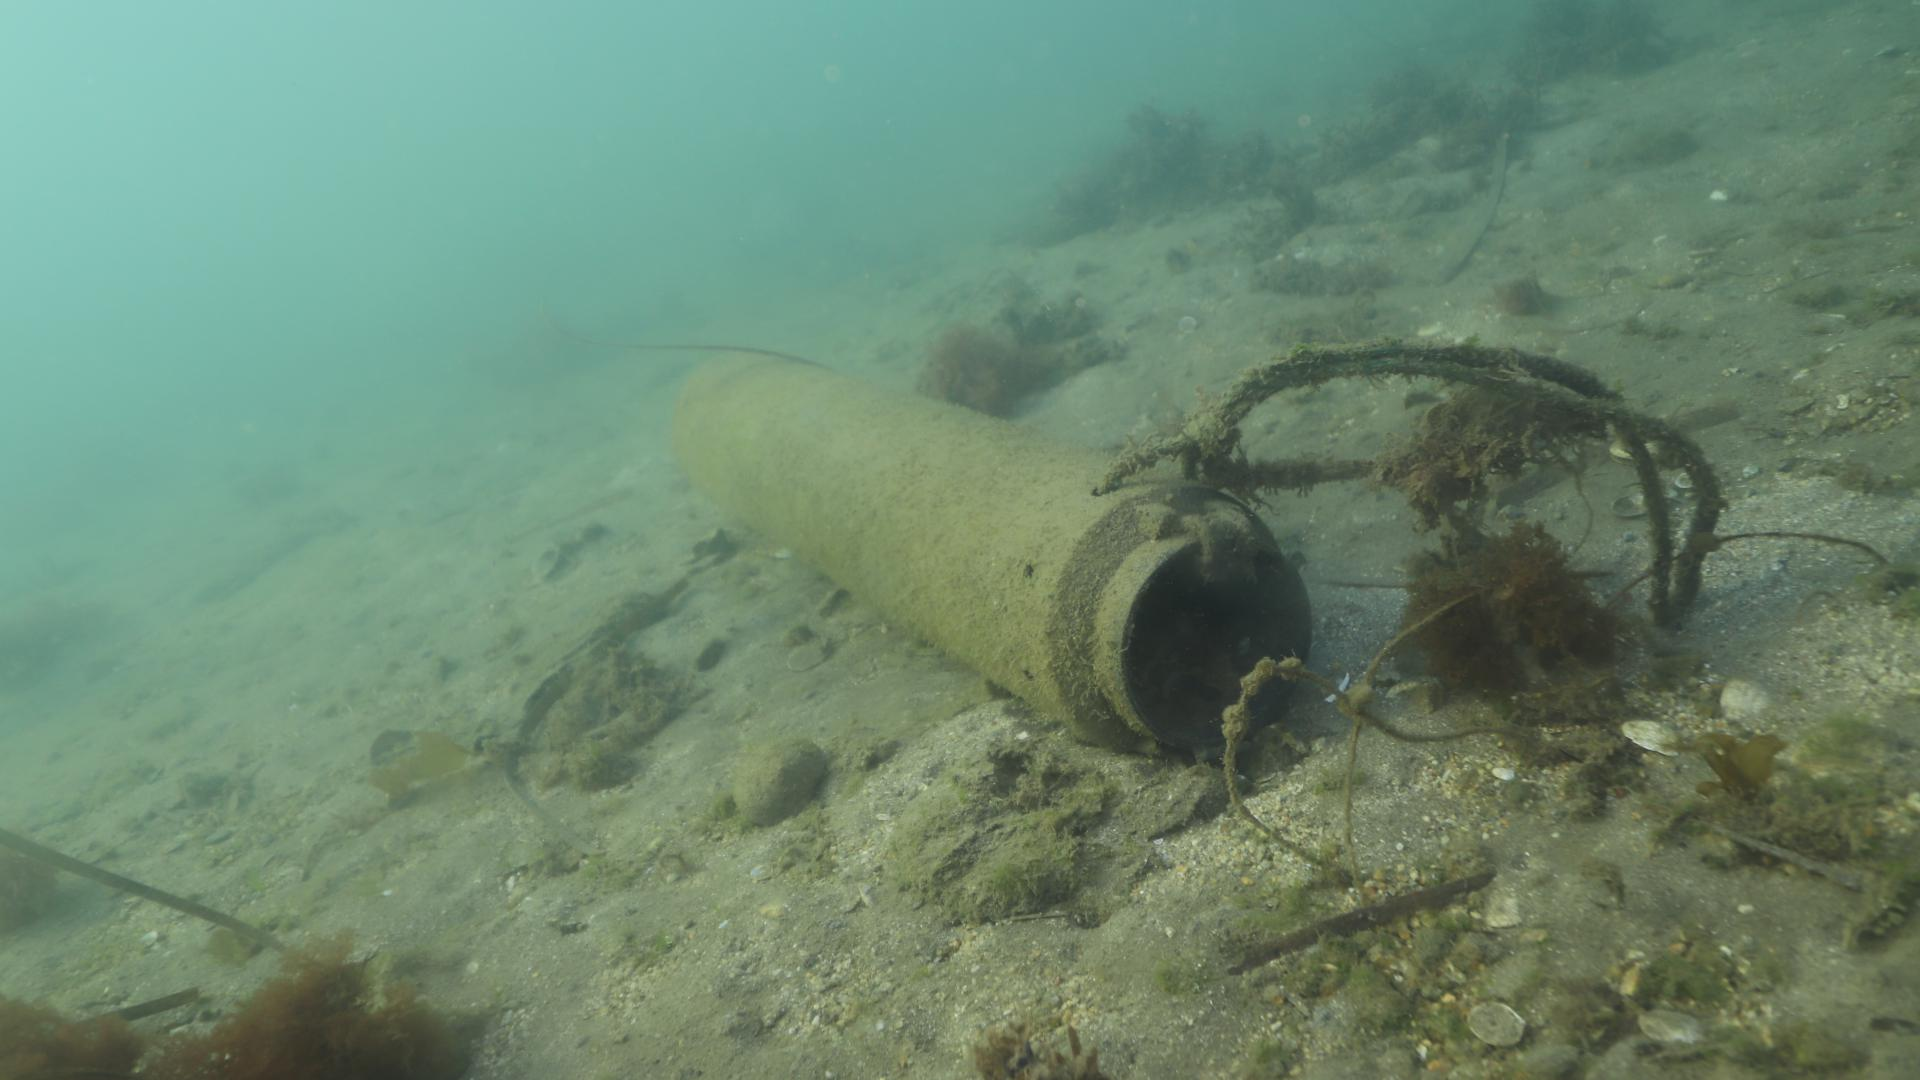bundle of ropes: (1095, 338, 1718, 630)
eel fish trap: (671, 351, 1313, 750)
